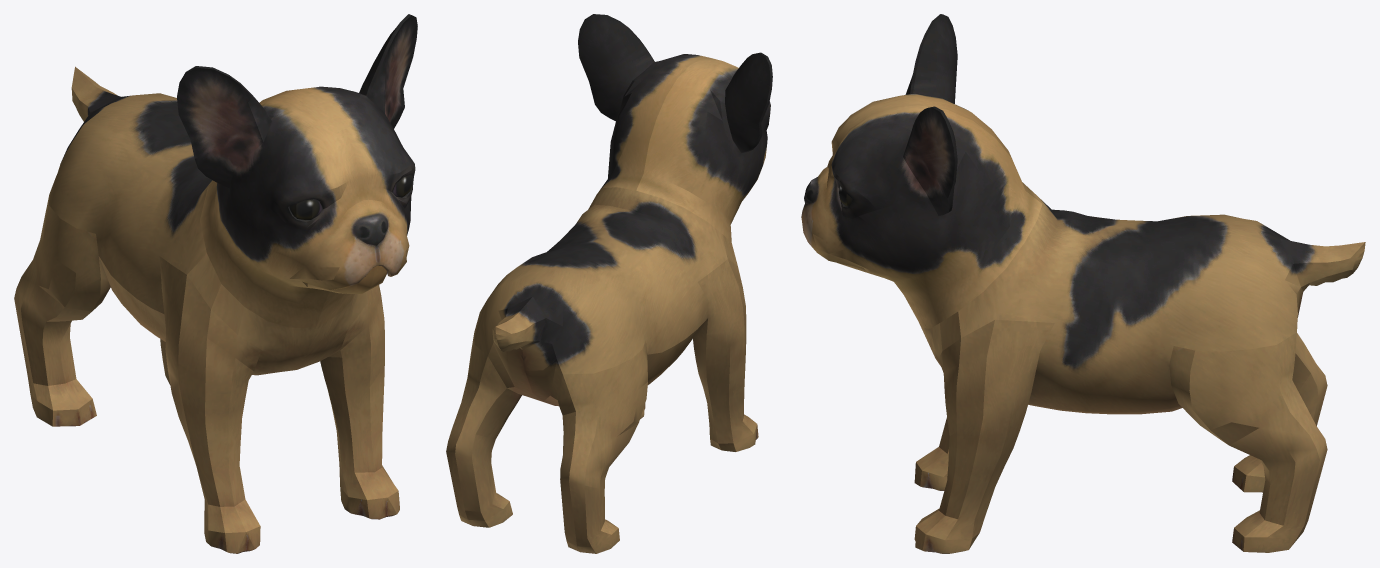
The model's file is dog.glb.
3 views of the same model, side by side, from view 1: azimuth 30°, elevation 25°; view 2: azimuth 150°, elevation 25°; view 3: azimuth 270°, elevation 25° (orthographic). The views are drawn at different scales.
Parts seen in each view (by area): view 1: Object_2; view 2: Object_2; view 3: Object_2.
Part boxes in pixels (bbox=[...]): Object_2: bbox=[14, 14, 417, 553]; Object_2: bbox=[446, 14, 772, 553]; Object_2: bbox=[801, 14, 1365, 553].
Size of the model in its own units: 6.35 by 12.39 by 13.92.
Materials: 1 (1 with a texture image).
